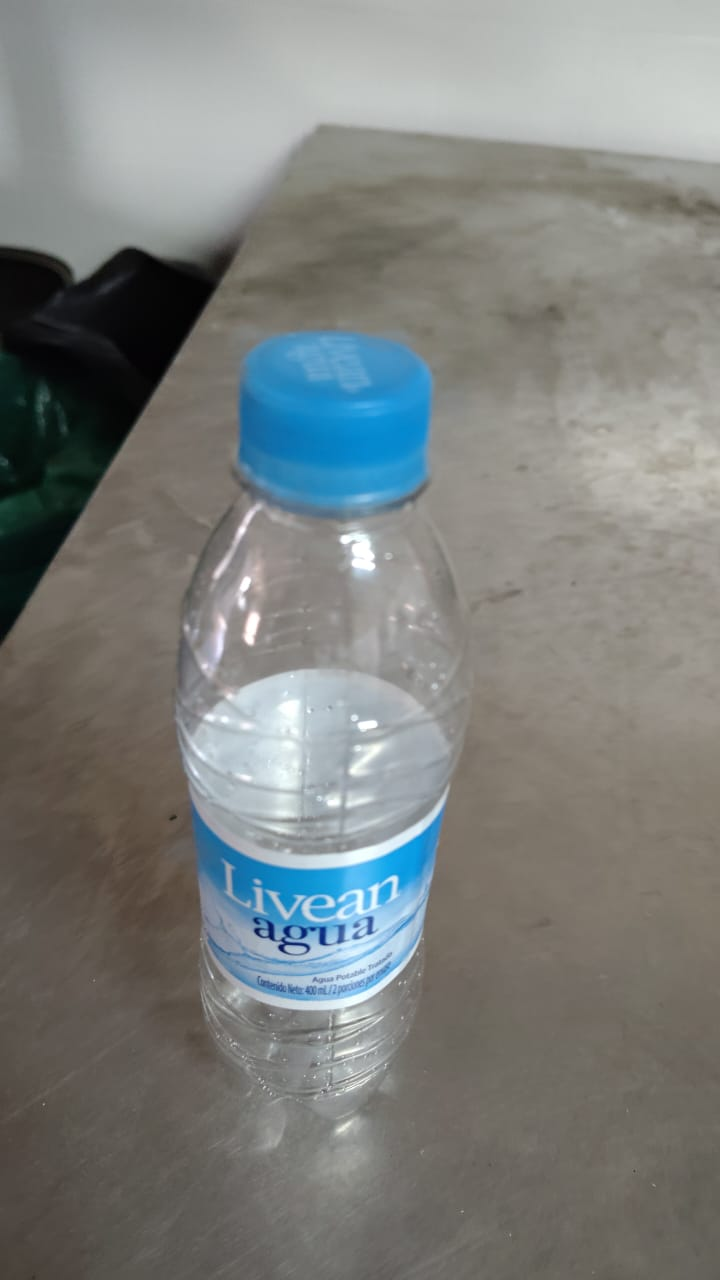Plastico: (175, 328, 470, 1126)
